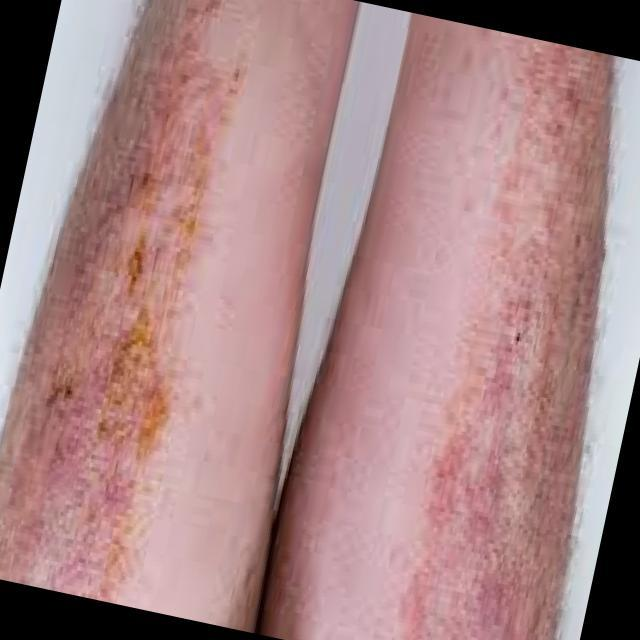Eczema: (401, 45, 611, 639), (39, 11, 237, 594)
